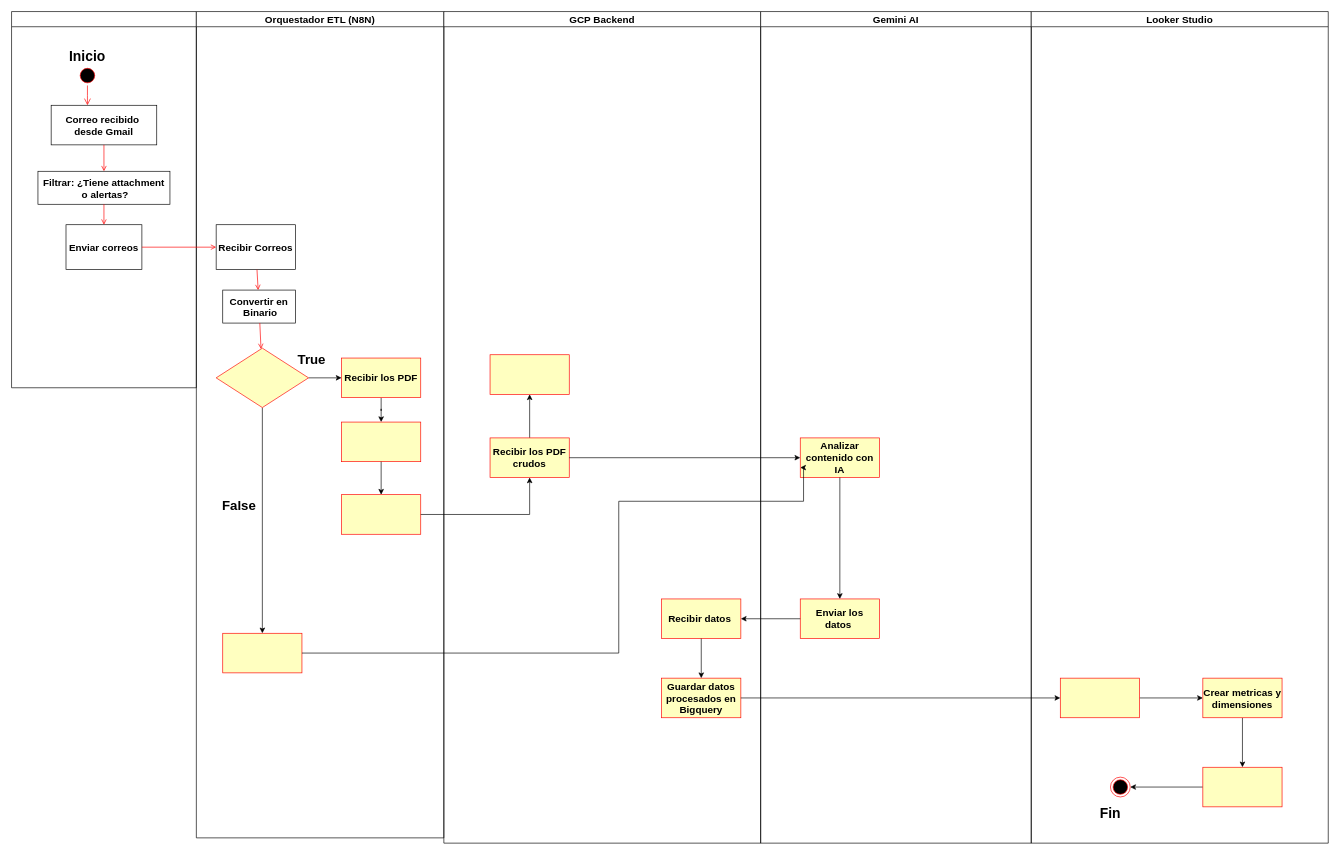
This 1340x855 diagram has some shape labels left out. Each missing label, with the box of its shape:
Convertir los PDF en Binary.data: (341, 421, 421, 462)
Crear Visualizaciones: (1202, 767, 1282, 807)
Enviar Alertas: (222, 633, 302, 673)
Enviar los PDF crudos: (341, 494, 421, 534)
Guardar los PDF en Cloud Storage: (489, 354, 569, 394)
Recibir los Datos: (1060, 677, 1139, 718)
Sistema externo: (11, 11, 196, 388)
¿Hay PDF?: (215, 347, 309, 408)
